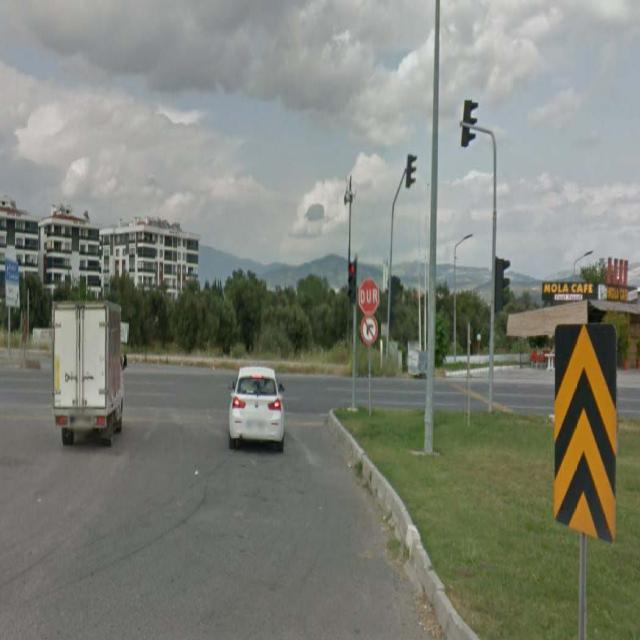dur: (359, 280, 380, 312)
kirmizi: (348, 262, 356, 300)
sagadonulmez: (361, 313, 378, 343)
